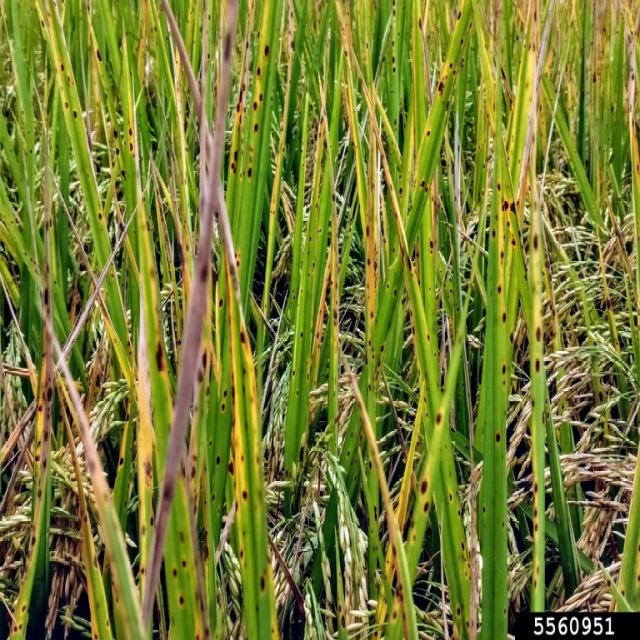Brown spot: (151, 332, 169, 374), (532, 482, 542, 538), (162, 480, 176, 508), (223, 30, 235, 60), (499, 197, 520, 214), (228, 260, 239, 291), (143, 457, 153, 488), (258, 566, 268, 596), (44, 284, 52, 316), (173, 528, 186, 545), (94, 46, 106, 64), (43, 256, 52, 280), (532, 228, 541, 252), (200, 263, 208, 289), (524, 41, 539, 54), (221, 389, 229, 413), (421, 176, 431, 195), (396, 582, 406, 601), (127, 142, 137, 160), (494, 428, 504, 446), (434, 82, 446, 97), (435, 408, 443, 430), (19, 598, 29, 615), (428, 235, 436, 256), (399, 240, 405, 268), (242, 485, 250, 506), (92, 550, 99, 572), (148, 511, 157, 528), (170, 563, 179, 580), (407, 255, 415, 274), (120, 168, 130, 183), (511, 230, 518, 251), (96, 206, 104, 224), (42, 455, 51, 471), (237, 544, 245, 562), (419, 478, 428, 494), (34, 486, 44, 500), (199, 594, 206, 614), (392, 56, 399, 76), (204, 623, 212, 640), (46, 331, 55, 346), (140, 519, 147, 538), (270, 198, 277, 217), (504, 217, 514, 230), (228, 462, 236, 478), (507, 329, 515, 345), (82, 509, 89, 527), (534, 354, 541, 372), (373, 503, 380, 521), (454, 506, 463, 520), (464, 570, 473, 584), (453, 604, 462, 618), (214, 455, 225, 466), (139, 564, 147, 579), (238, 331, 246, 346), (535, 327, 543, 342), (522, 79, 530, 94), (635, 154, 640, 177), (392, 605, 398, 624), (178, 594, 186, 608), (203, 546, 210, 562), (231, 161, 238, 177), (398, 186, 406, 200), (340, 614, 347, 630), (367, 458, 374, 474), (500, 248, 506, 266), (117, 456, 124, 471), (108, 356, 115, 371), (181, 555, 188, 570), (591, 71, 598, 86), (256, 66, 264, 79), (392, 116, 400, 129), (391, 543, 399, 556), (531, 395, 537, 412), (365, 282, 375, 292), (22, 563, 31, 574), (365, 256, 374, 267), (40, 18, 47, 32), (73, 107, 80, 121), (233, 148, 240, 162), (218, 296, 224, 312), (344, 48, 352, 60), (371, 0, 379, 12), (240, 528, 248, 540), (456, 10, 464, 22), (495, 180, 503, 192), (128, 124, 135, 137), (43, 429, 50, 442), (150, 267, 157, 280), (411, 325, 418, 338), (253, 601, 260, 614), (609, 104, 616, 117), (113, 124, 119, 139), (391, 37, 397, 52), (418, 17, 424, 32), (423, 500, 429, 515), (80, 320, 88, 331), (544, 396, 552, 407), (532, 579, 540, 590), (48, 386, 53, 403), (492, 226, 497, 243), (185, 16, 192, 28), (32, 534, 38, 548), (18, 620, 24, 634), (365, 225, 371, 239), (394, 209, 400, 223), (240, 453, 247, 465), (482, 504, 488, 518), (460, 58, 467, 70), (630, 66, 636, 80), (501, 310, 506, 326), (207, 438, 215, 448), (540, 413, 548, 423), (36, 437, 42, 450), (263, 44, 269, 57), (315, 328, 321, 341), (448, 489, 454, 502), (241, 80, 248, 91), (294, 386, 301, 397), (459, 541, 466, 552), (502, 362, 507, 377), (533, 9, 538, 24), (12, 622, 18, 634), (106, 616, 112, 628), (91, 631, 100, 639), (295, 298, 301, 310), (316, 225, 322, 237), (363, 42, 372, 50), (426, 332, 432, 344), (385, 281, 391, 293), (256, 454, 262, 466), (240, 385, 248, 394), (345, 448, 351, 460), (506, 154, 512, 166), (115, 148, 122, 158), (84, 170, 91, 180), (38, 404, 45, 414), (246, 168, 253, 178), (311, 20, 318, 30), (209, 491, 216, 501), (35, 452, 41, 463), (253, 101, 259, 112), (254, 122, 260, 133), (292, 368, 298, 379), (426, 128, 432, 139), (338, 602, 344, 613), (44, 220, 49, 233), (417, 366, 422, 379), (384, 557, 392, 565), (412, 127, 419, 136), (59, 62, 65, 72), (67, 76, 73, 86), (64, 100, 69, 112), (497, 284, 502, 296), (367, 382, 373, 392), (502, 378, 507, 390), (392, 10, 399, 18), (391, 0, 399, 7), (447, 63, 455, 70), (206, 51, 211, 62), (370, 310, 375, 321), (367, 516, 372, 527), (466, 619, 471, 630), (320, 116, 326, 125), (249, 143, 254, 153), (249, 0, 254, 10), (300, 330, 305, 340), (306, 372, 311, 382), (302, 161, 307, 171), (389, 208, 394, 218), (244, 421, 249, 431), (535, 566, 540, 576), (425, 411, 430, 421), (459, 36, 464, 46), (248, 156, 255, 163), (410, 522, 417, 529), (458, 353, 465, 360), (52, 1, 58, 9), (208, 12, 212, 24), (196, 628, 200, 640), (304, 359, 310, 367), (410, 309, 414, 321), (380, 344, 386, 352), (412, 534, 418, 542), (462, 555, 468, 563), (95, 601, 100, 610), (390, 88, 395, 97), (389, 183, 394, 192), (432, 351, 437, 360), (393, 288, 398, 297), (431, 310, 436, 319), (428, 284, 433, 293), (501, 522, 506, 531), (113, 335, 117, 346), (186, 243, 190, 254), (281, 144, 285, 155), (323, 104, 327, 115), (262, 302, 268, 309), (290, 287, 296, 294), (390, 140, 396, 147), (503, 604, 506, 618), (483, 522, 489, 529), (422, 396, 428, 403), (44, 205, 49, 213), (125, 413, 130, 421), (158, 316, 162, 326), (239, 89, 243, 99), (290, 39, 294, 49), (287, 77, 292, 85), (300, 286, 305, 294), (318, 130, 322, 140), (300, 148, 305, 156), (350, 429, 354, 439), (511, 133, 515, 143), (616, 28, 621, 36), (125, 29, 129, 38), (46, 406, 52, 412), (242, 365, 246, 374), (502, 232, 506, 241), (70, 338, 75, 345), (48, 11, 52, 19), (26, 128, 30, 136), (48, 374, 52, 382), (368, 339, 372, 347), (61, 0, 67, 5), (30, 524, 35, 530), (237, 103, 240, 113), (238, 115, 241, 125), (288, 28, 293, 34), (518, 158, 521, 168), (110, 271, 114, 278), (243, 107, 247, 114), (290, 12, 294, 19), (307, 271, 311, 278), (367, 294, 371, 301), (372, 354, 376, 361), (21, 107, 24, 116), (44, 320, 47, 328), (45, 379, 48, 387), (106, 292, 110, 298), (110, 260, 114, 266), (241, 136, 244, 144), (242, 169, 245, 176), (30, 145, 32, 155), (109, 280, 112, 286), (246, 41, 248, 50), (47, 414, 49, 421), (238, 126, 240, 132), (240, 173, 242, 179), (292, 297, 296, 300)
